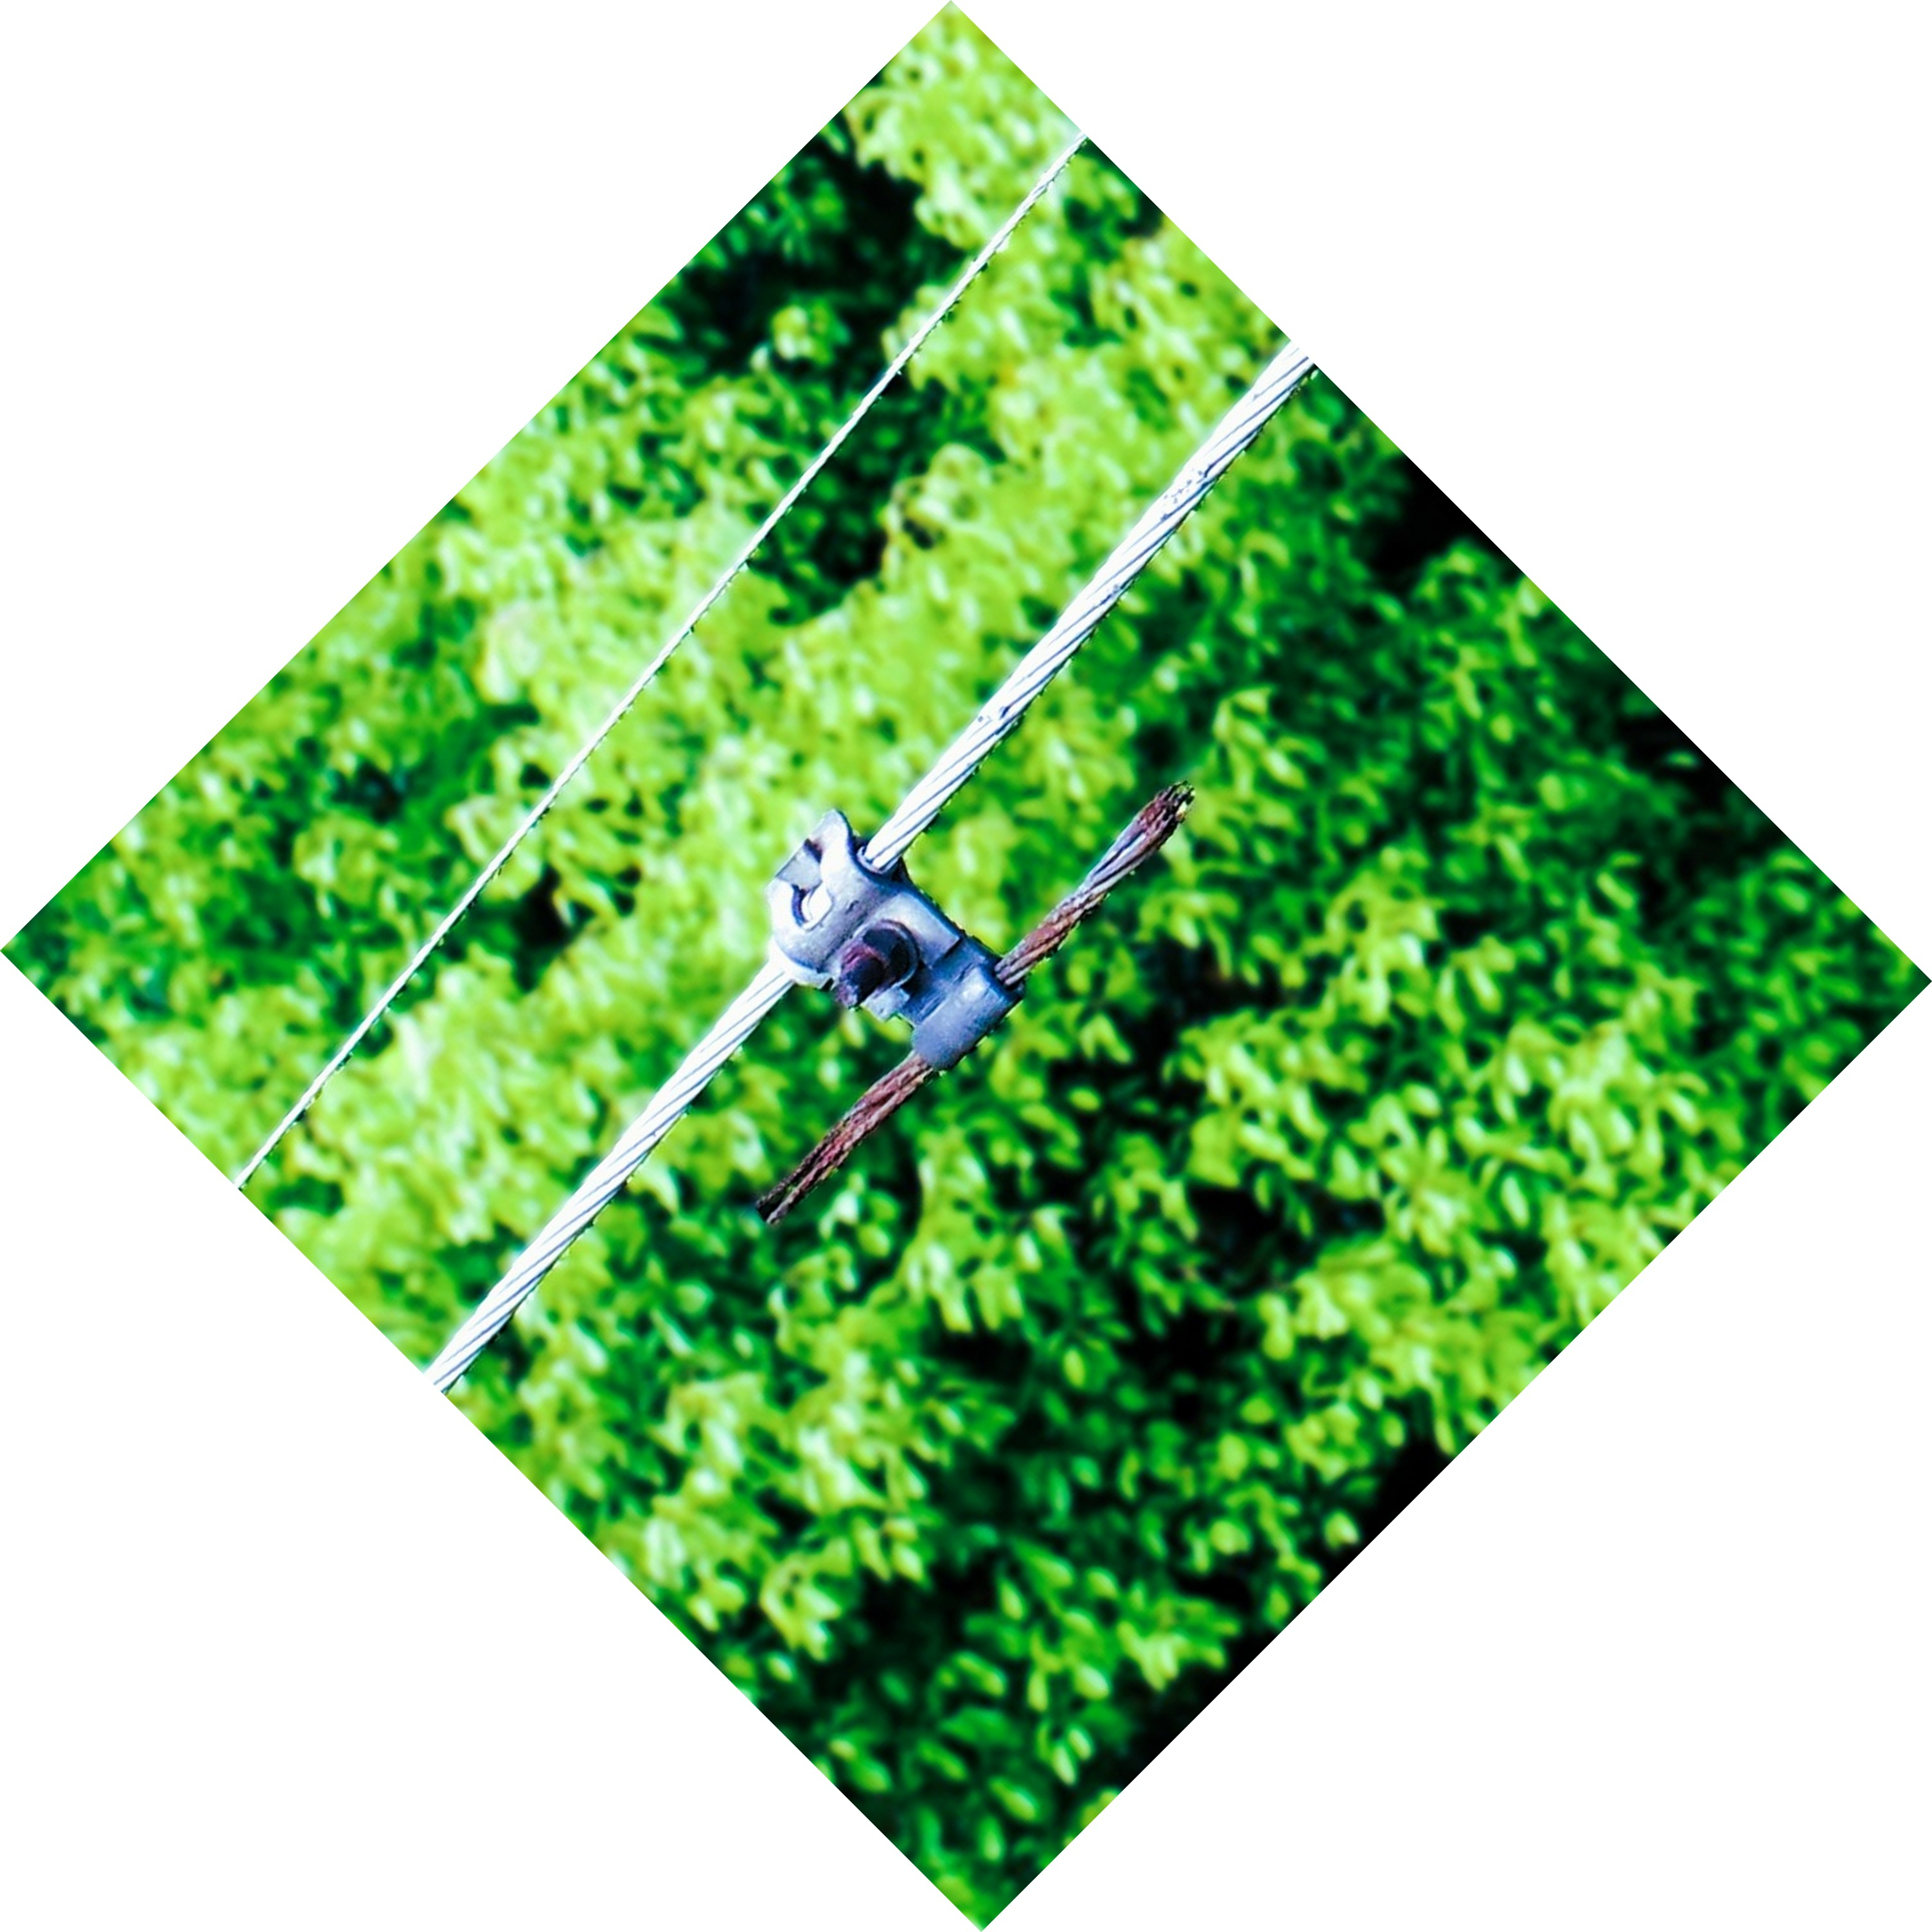Damage of shockproof hammer: (651, 736, 1221, 1261)
